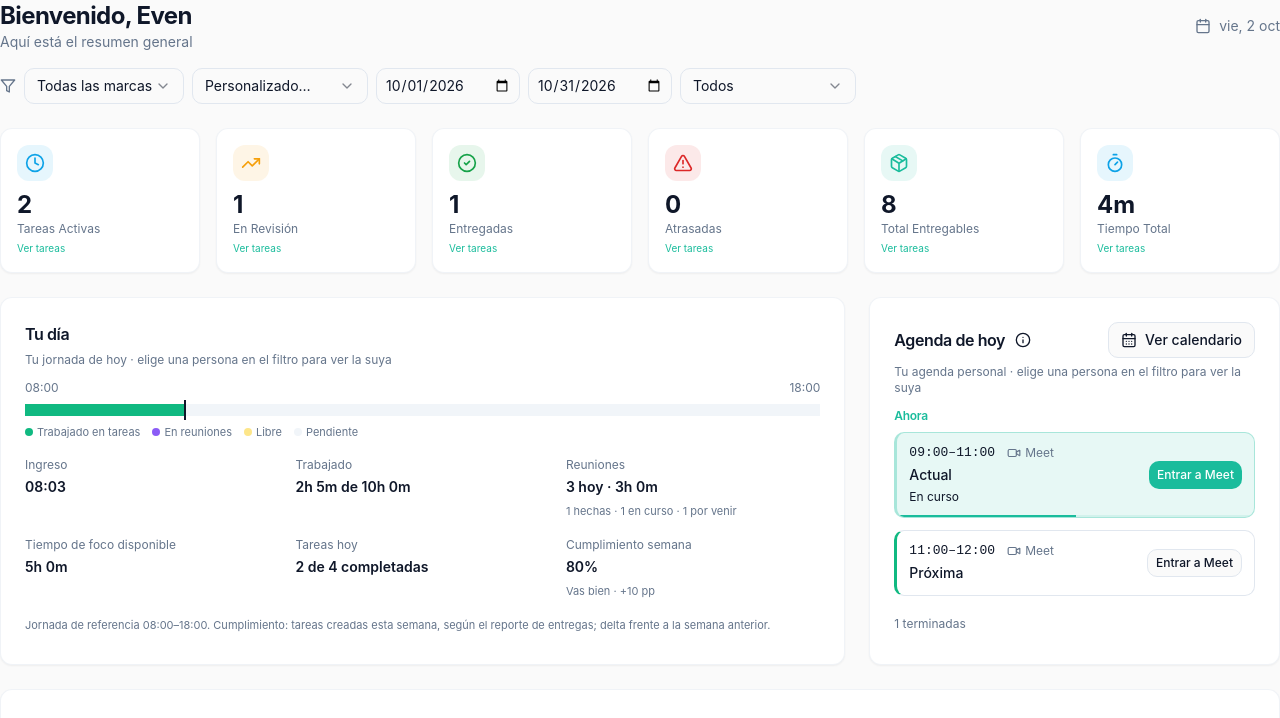
Scenario: Dashboard · consultar las tareas de los indicadores › la lista respeta marca, mesa y fechas del dashboard
Step 1. Click the button with aria-label "Ver tareas: Tareas Activas" → (100, 200), box x1=1 y1=129 x2=199 y2=272
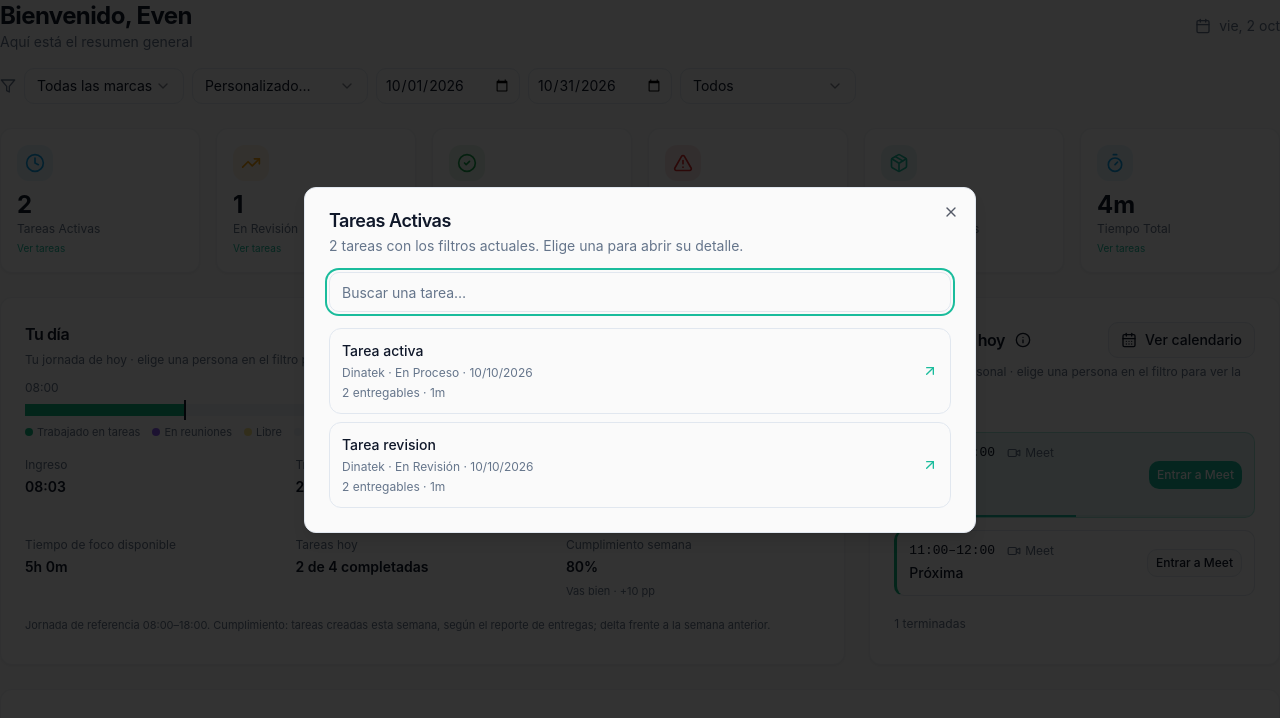
Check: the dialog does not show "Tarea otra", box x1=304 y1=187 x2=976 y2=533
Check: the number of buttons named "Abrir Tarea" is 2, box x1=329 y1=328 x2=951 y2=414; x1=329 y1=422 x2=951 y2=508
